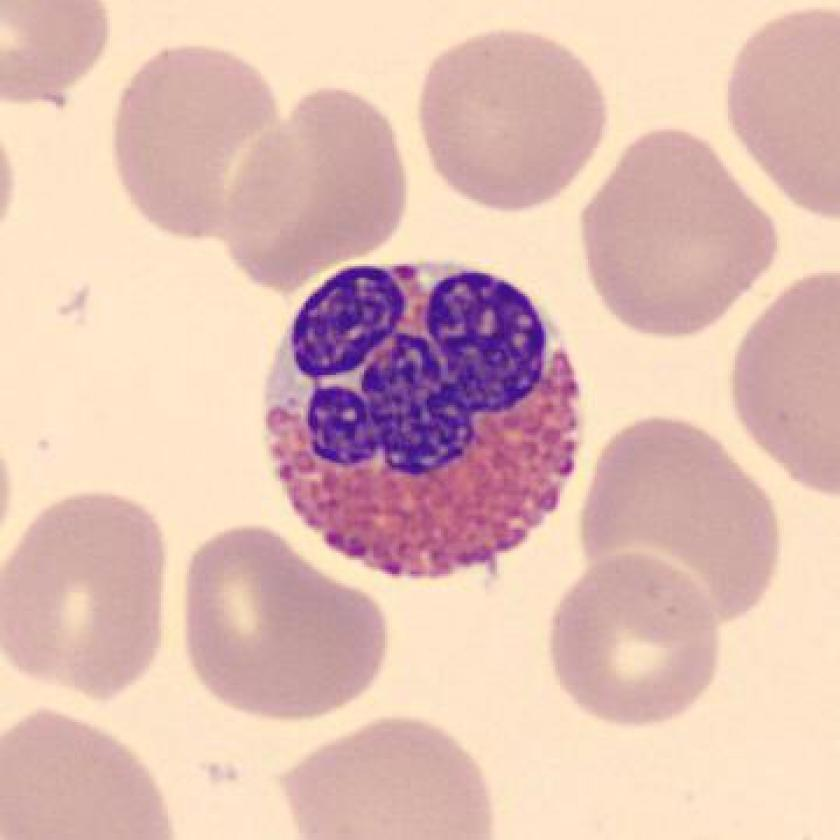eosinophil: (244, 246, 601, 612)
